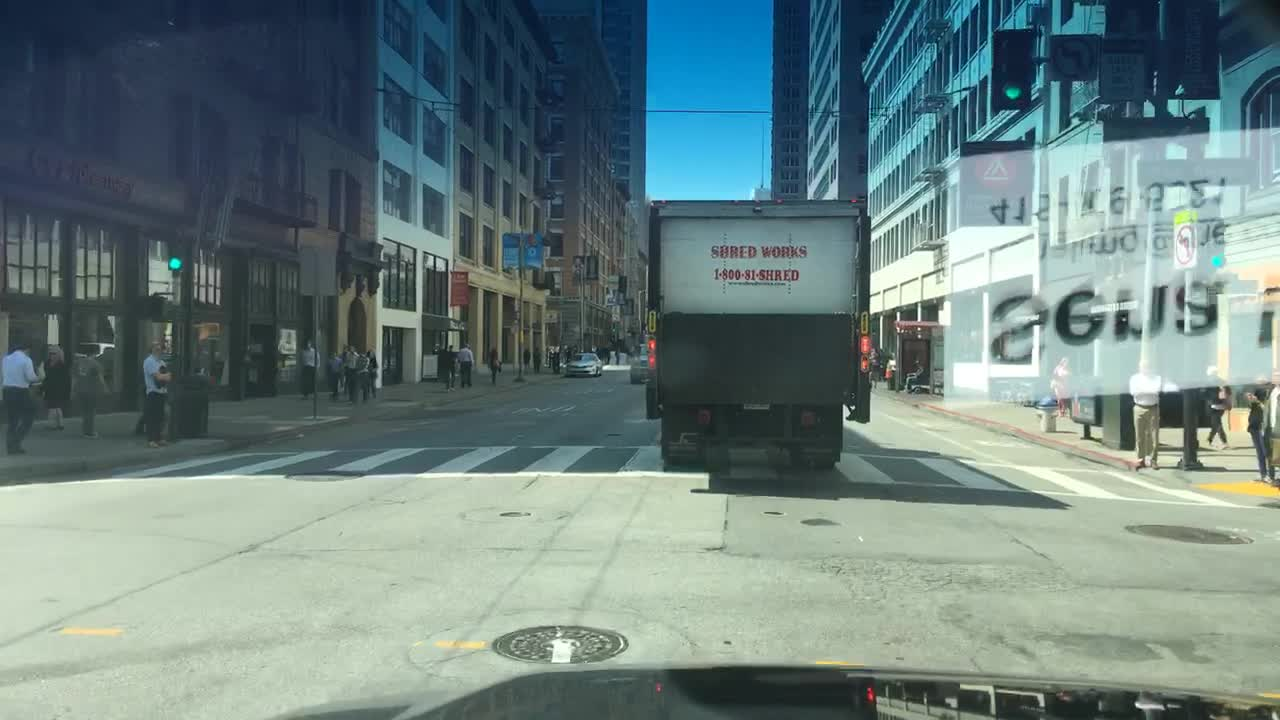car: (560, 349, 604, 378), (630, 342, 651, 382)
person: (0, 333, 50, 452), (67, 342, 106, 435), (1128, 357, 1160, 469), (37, 341, 75, 431), (1242, 388, 1276, 482), (137, 339, 168, 442), (1197, 364, 1233, 447), (1253, 369, 1279, 474), (299, 337, 322, 400), (1051, 356, 1074, 419), (326, 345, 344, 397), (344, 342, 359, 399), (902, 356, 925, 392), (459, 339, 475, 389), (443, 342, 460, 387), (358, 343, 371, 396), (366, 350, 379, 395), (487, 343, 501, 384), (886, 349, 900, 389), (522, 350, 534, 374), (532, 345, 544, 369), (875, 350, 884, 377)
traffic light: (989, 30, 1035, 108), (195, 316, 219, 342), (165, 242, 183, 276)
traffic sign: (1100, 0, 1228, 98), (1048, 32, 1101, 80), (503, 229, 544, 264), (1172, 211, 1194, 267), (452, 268, 468, 307), (611, 302, 622, 321)
truck: (641, 194, 875, 463)
